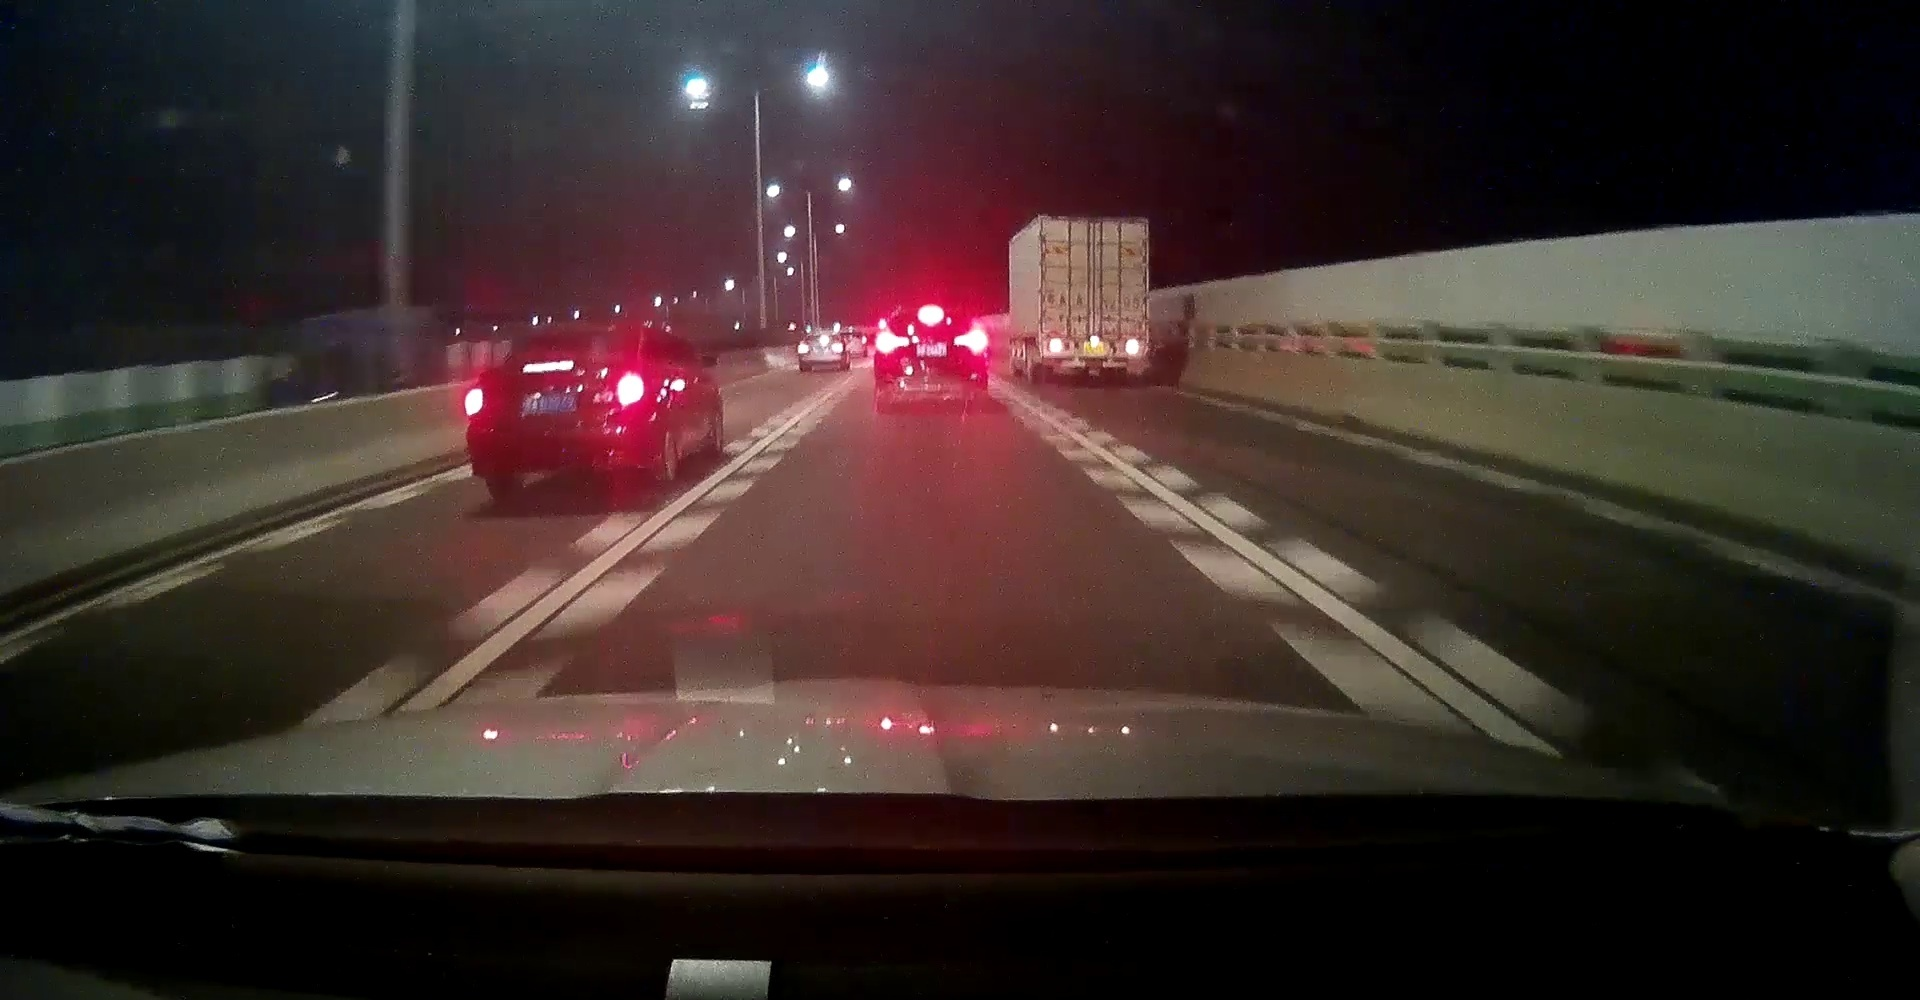L_light: (463, 383, 486, 418), (876, 332, 909, 352), (1045, 339, 1074, 354), (797, 344, 810, 354)
R_light: (615, 371, 645, 410), (954, 331, 988, 350), (1117, 340, 1145, 355), (830, 343, 844, 353)
T_light: (521, 360, 575, 373), (916, 308, 945, 322), (1086, 218, 1105, 223), (819, 335, 829, 341)
night-brake: (461, 320, 650, 501), (872, 303, 989, 409), (796, 331, 847, 371)
night-no: (1036, 214, 1150, 383)
